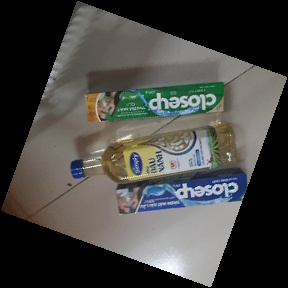CloseUp Tuyet: (116, 166, 249, 217)
CloseUp Xanh: (81, 81, 226, 123)
Simply: (69, 122, 238, 184)
